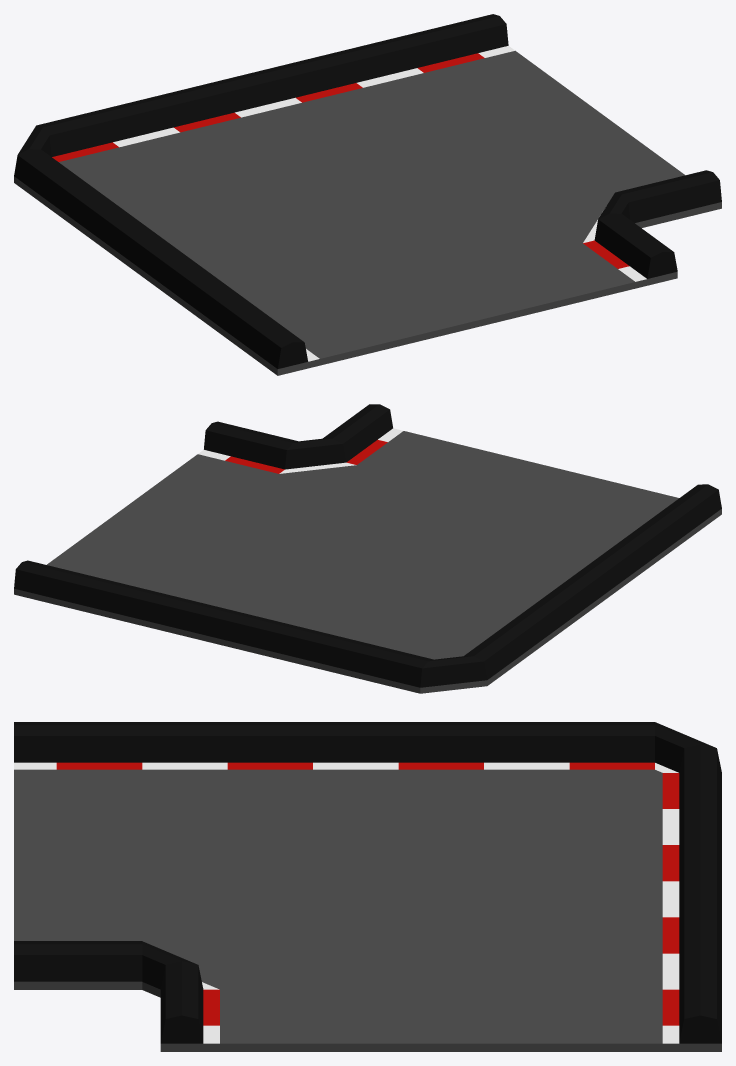
Rendered from turn.obj.
3 views of the same model, one above another, from view 1: azimuth 30°, elevation 25°; view 2: azimuth 150°, elevation 25°; view 3: azimuth 270°, elevation 25° (orthographic). The views are drawn at different scales.
Visible parts, largest first — view 1: Turn_Plane.004; view 2: Turn_Plane.004; view 3: Turn_Plane.004.
Part boxes in pixels (left/top/right/bottom): Turn_Plane.004: left=14, top=14, right=721, bottom=375; Turn_Plane.004: left=14, top=404, right=721, bottom=693; Turn_Plane.004: left=14, top=722, right=721, bottom=1051.
Bounding box in the file's own units: 16.57 × 0.9427 × 16.57.
